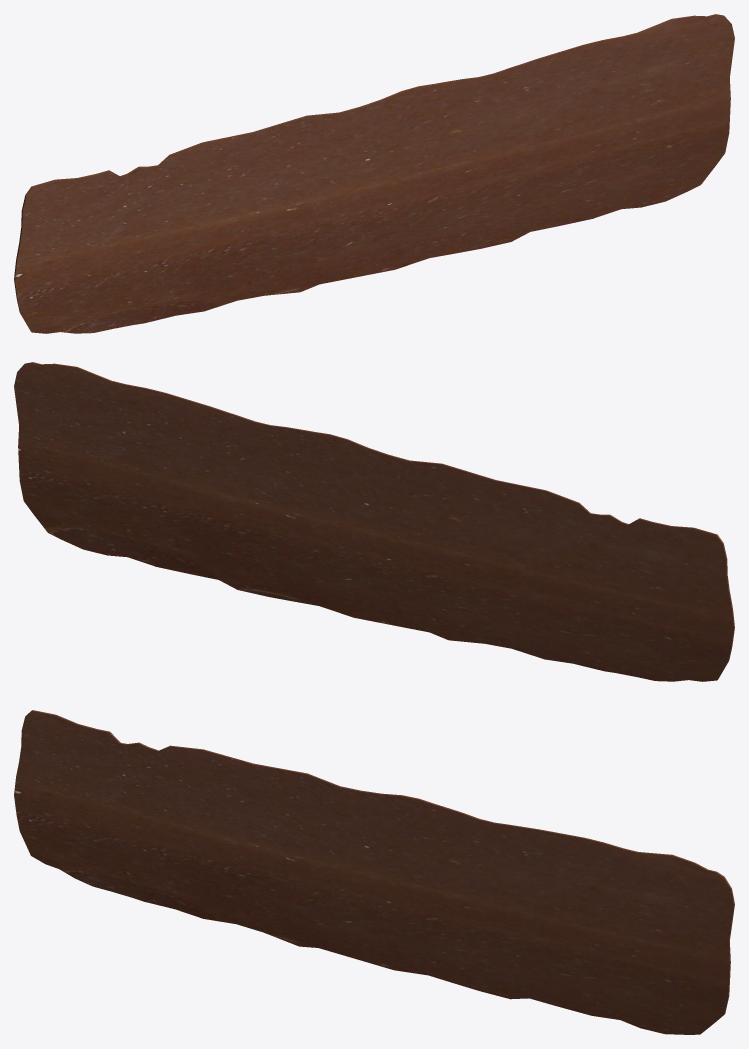
3 views of the same model, one above another, from view 1: azimuth 30°, elevation 25°; view 2: azimuth 150°, elevation 25°; view 3: azimuth 330°, elevation 25° (orthographic).
Visible parts, largest first — view 1: Layer_Model_Front; view 2: Layer_Model_Front; view 3: Layer_Model_Front.
Part boxes in pixels (left/top/right/bottom): Layer_Model_Front: left=14, top=14, right=734, bottom=333; Layer_Model_Front: left=14, top=362, right=734, bottom=681; Layer_Model_Front: left=14, top=710, right=734, bottom=1034.
Bounding box in the file's own units: 6.37 × 1.55 × 0.0158.
Materials: 1 (1 with a texture image).
